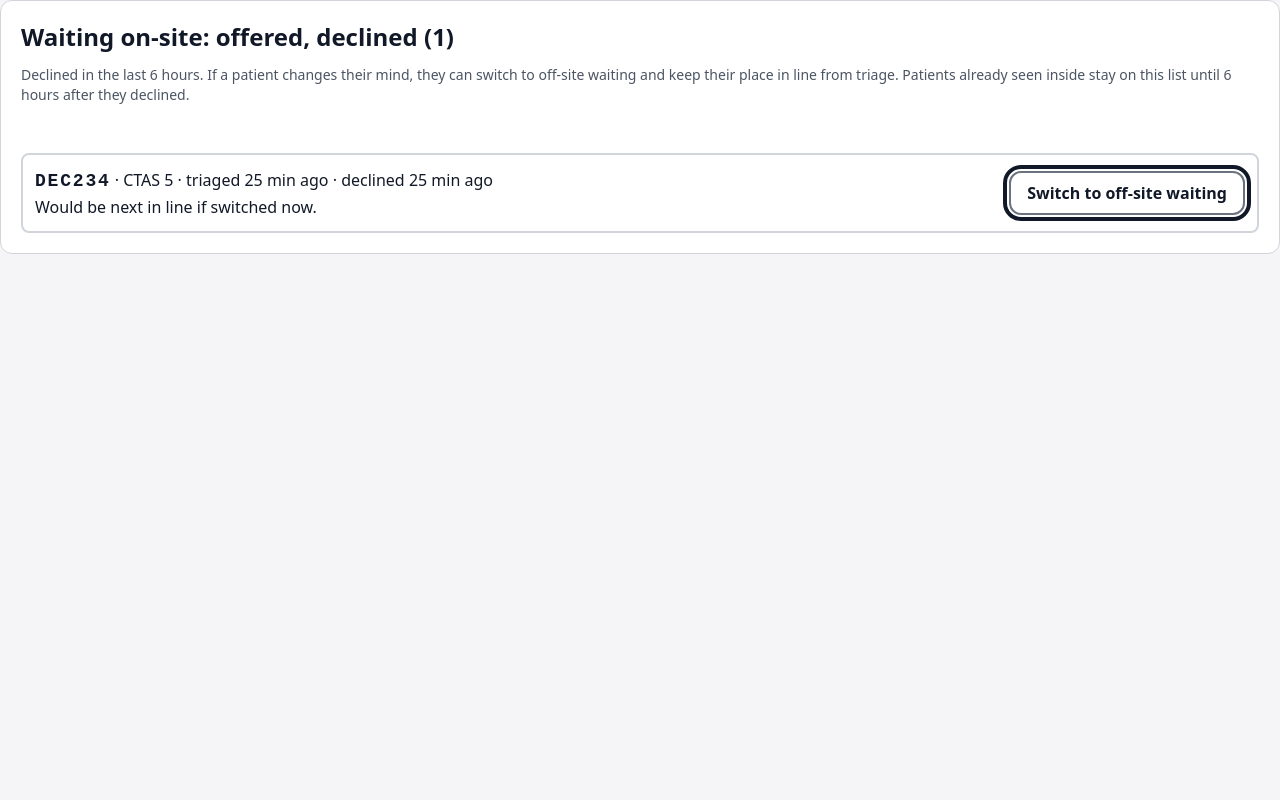
WaitingOnSite › closes the checklist and clears the ticks when the site is paused on another screen
What coordinates should you click on to do the following:
click the button "Switch to off-site waiting"
I would click on:
 (1127, 193)
Its box is [1009,171,1245,215].
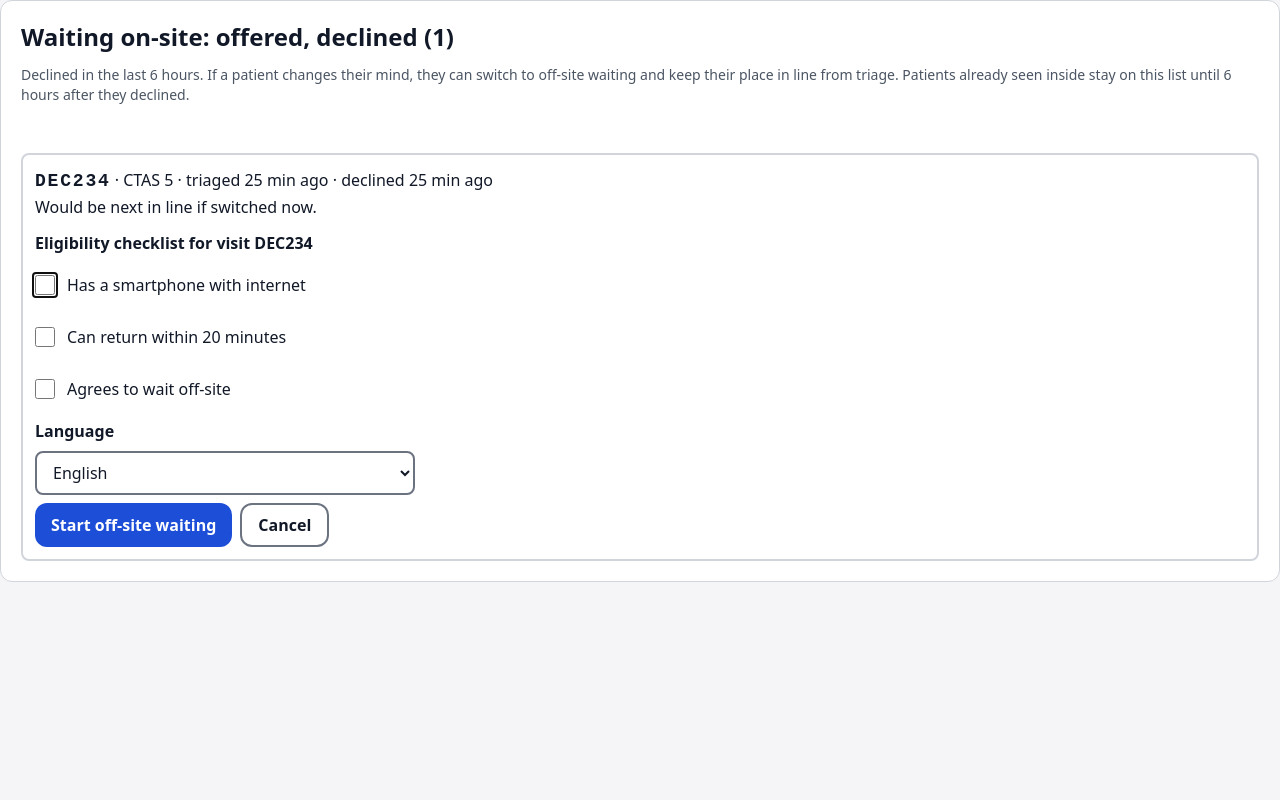
What coordinates should you click on to do the following:
click the checkbox labelled "Has a smartphone with internet"
I would click on:
 (45, 285)
Its box is [35,275,55,295].
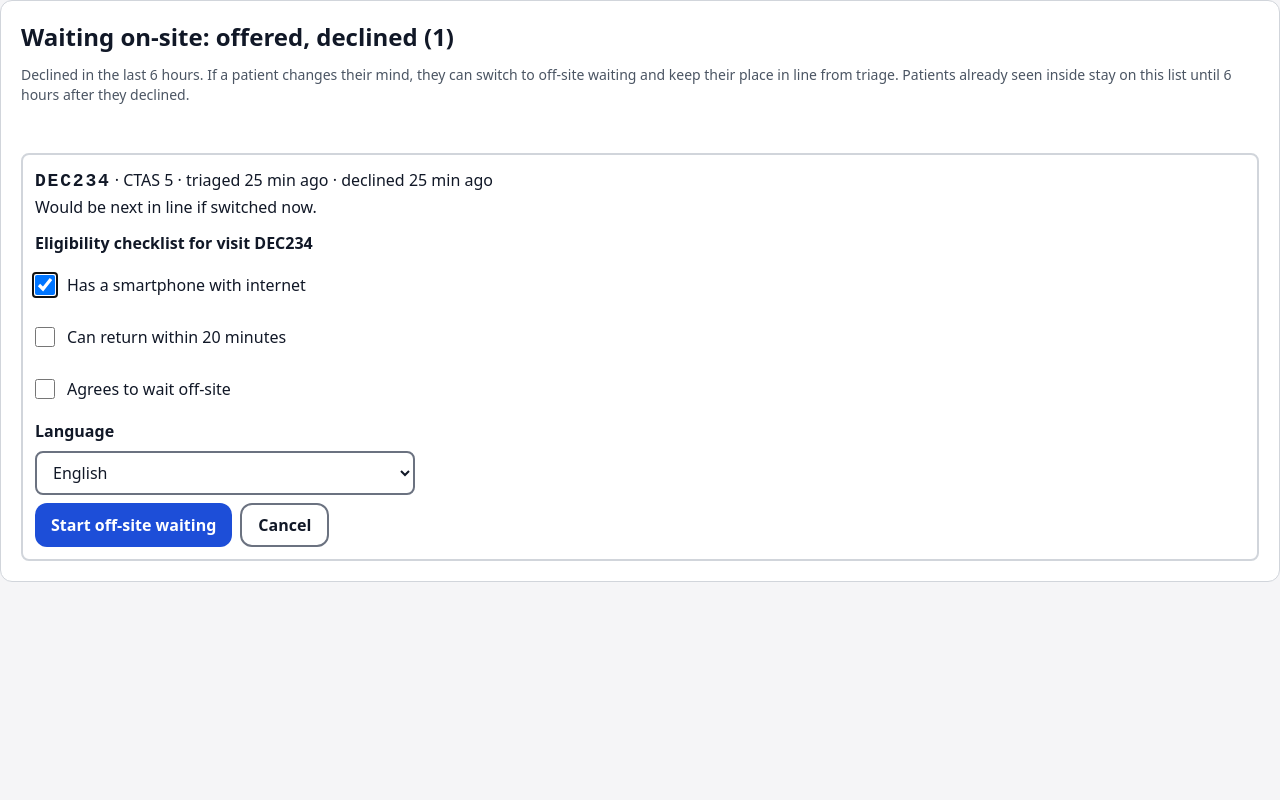
What coordinates should you click on to do the following:
click the checkbox labelled "Can return within 20 minutes"
I would click on:
 (45, 337)
Its box is [35,327,55,347].
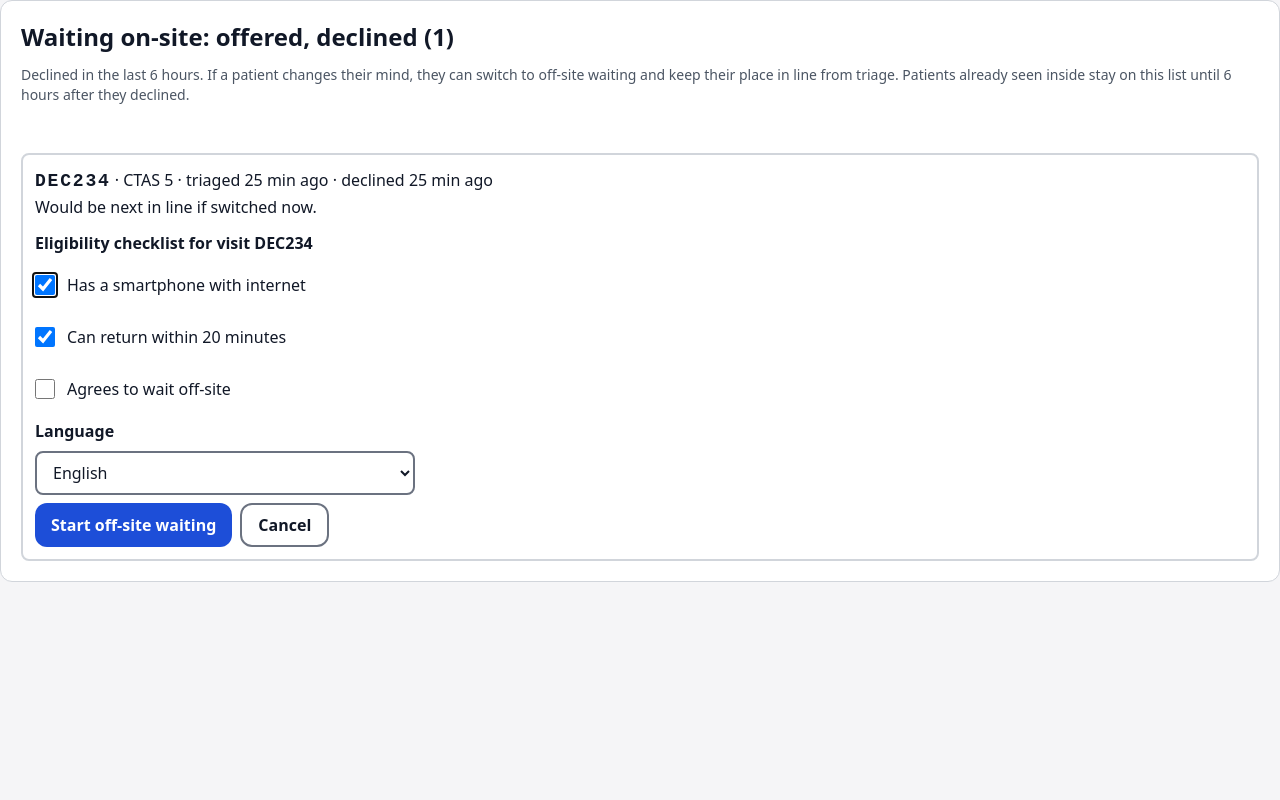
What coordinates should you click on to do the following:
click the checkbox labelled "Agrees to wait off-site"
I would click on:
 (45, 389)
Its box is [35,379,55,399].
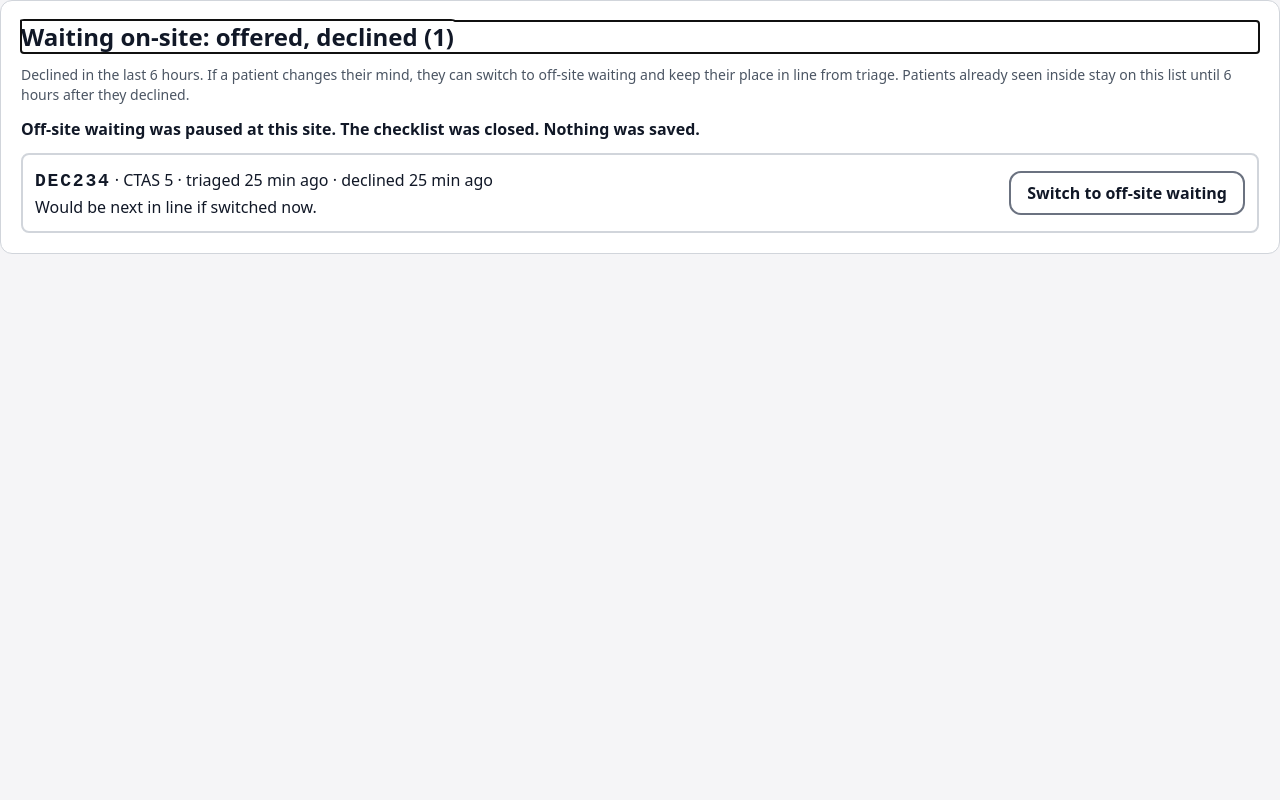
Expected: the text "The checklist was closed. Nothing was saved." is shown, [21,118,700,140]
Expected: the checkbox is gone
